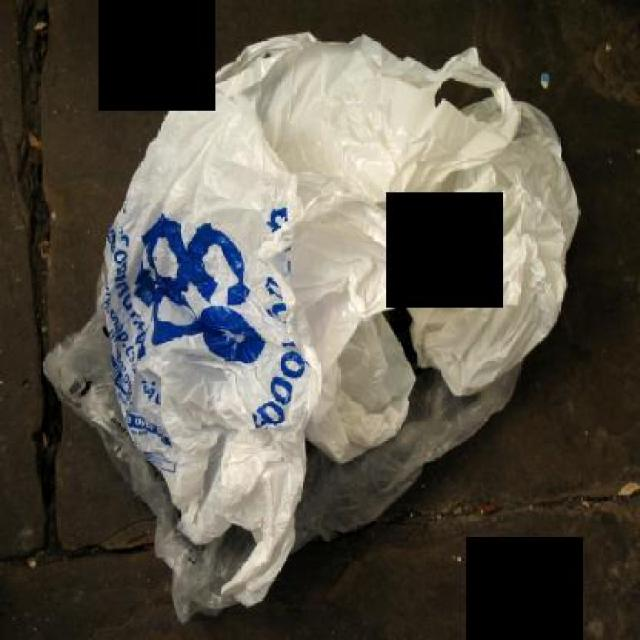plastic bag: (97, 23, 517, 605), (403, 92, 580, 391)
